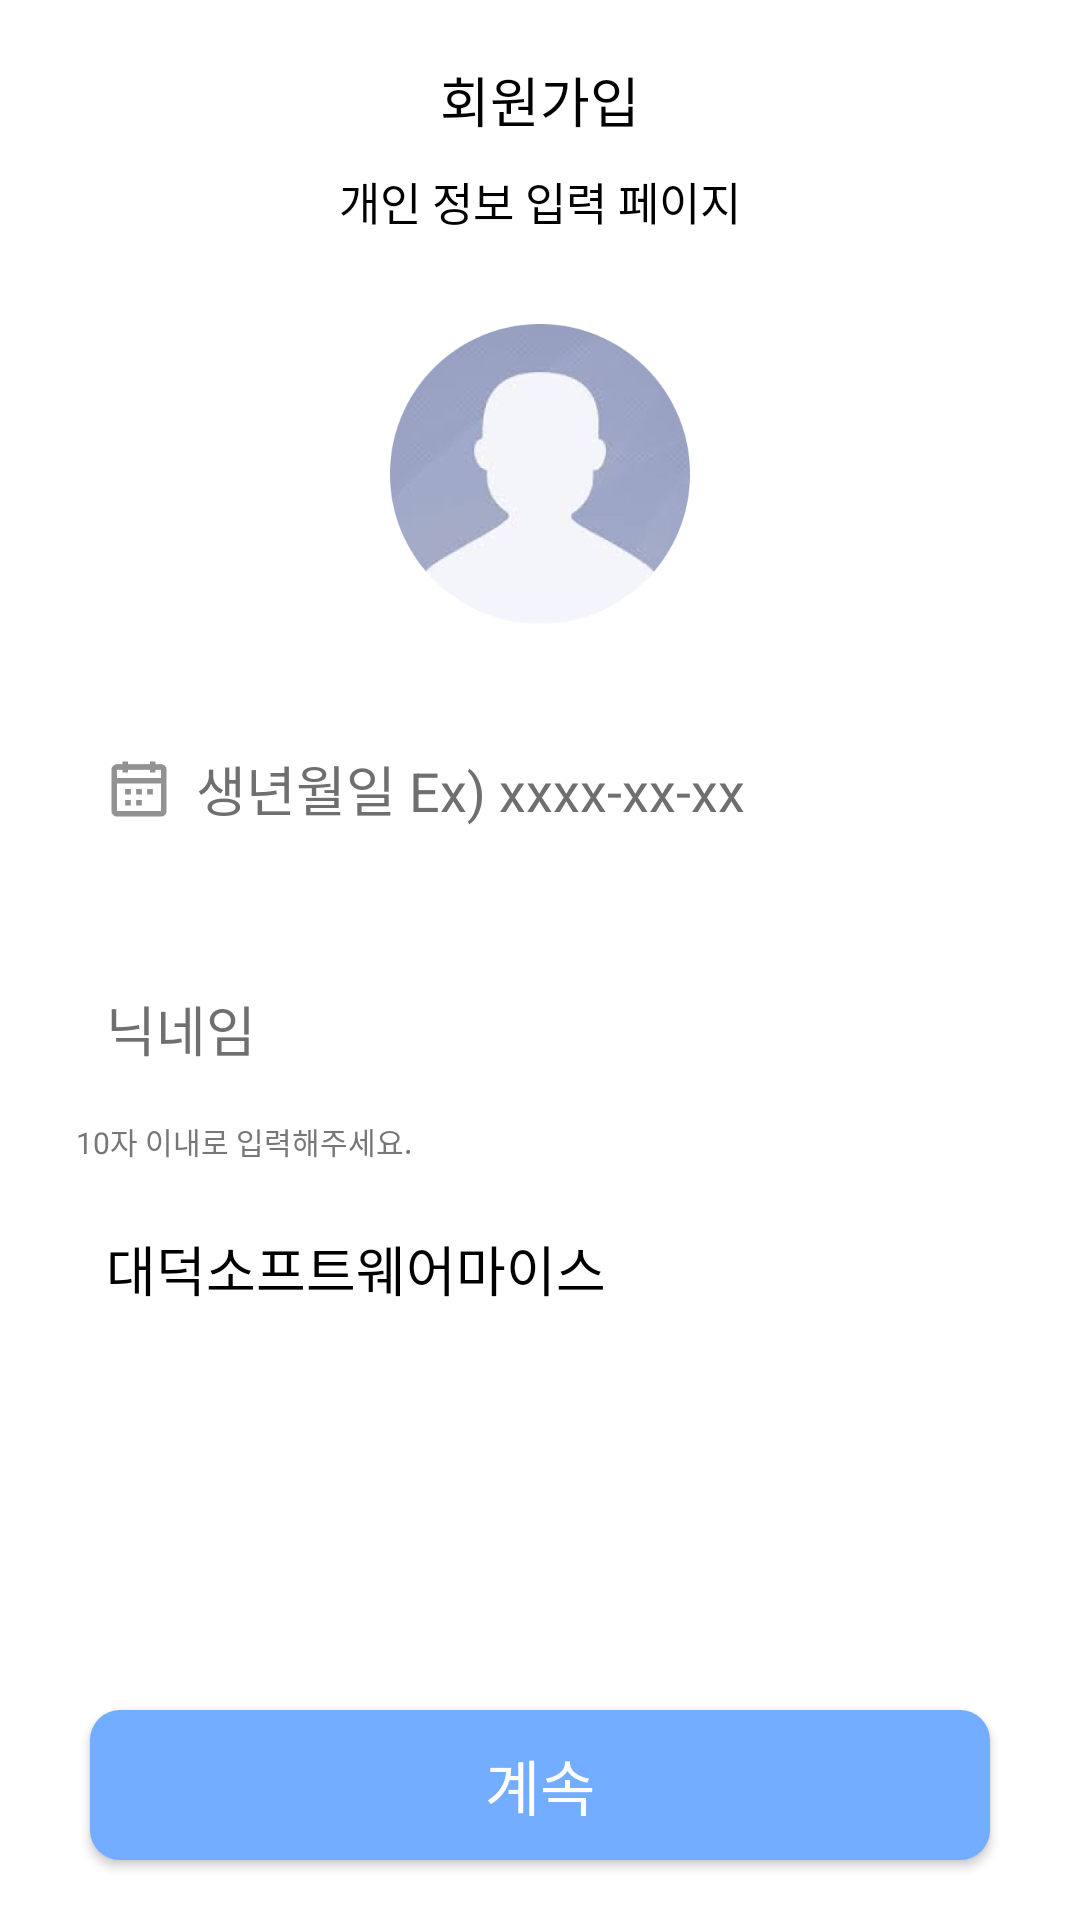

Screen size 1080 x 1920. Icon name, then its center in pixels as (x=x, y=y):
calendar: (x=139, y=789)
profile: (x=540, y=448)
